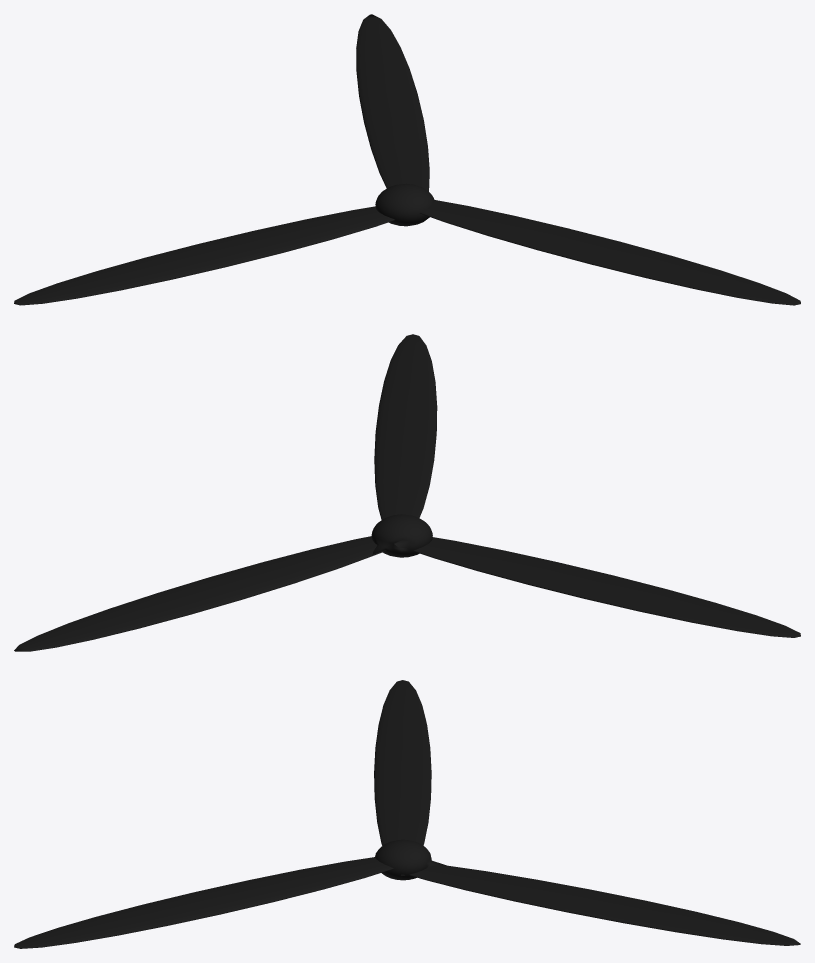
Rendered from propeller.obj.
3 renders of one model, top to bottom at view 1: azimuth 30°, elevation 25°; view 2: azimuth 150°, elevation 25°; view 3: azimuth 270°, elevation 25°, orthographic. The views are drawn at different scales.
Parts seen in each view (by area): view 1: Propeller1; view 2: Propeller1; view 3: Propeller1.
Part boxes in pixels (bbox=[...]): Propeller1: bbox=[14, 14, 800, 305]; Propeller1: bbox=[14, 334, 800, 651]; Propeller1: bbox=[14, 680, 800, 948].
Size of the model in its own units: 7.2 by 0.4 by 8.73.
Materials: 1 (1 with a texture image).
